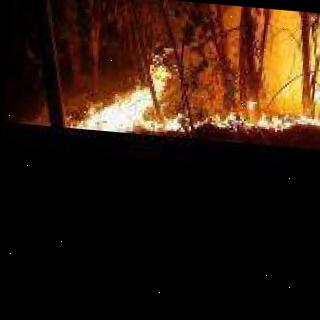fire: (70, 42, 262, 142), (285, 11, 320, 106)
